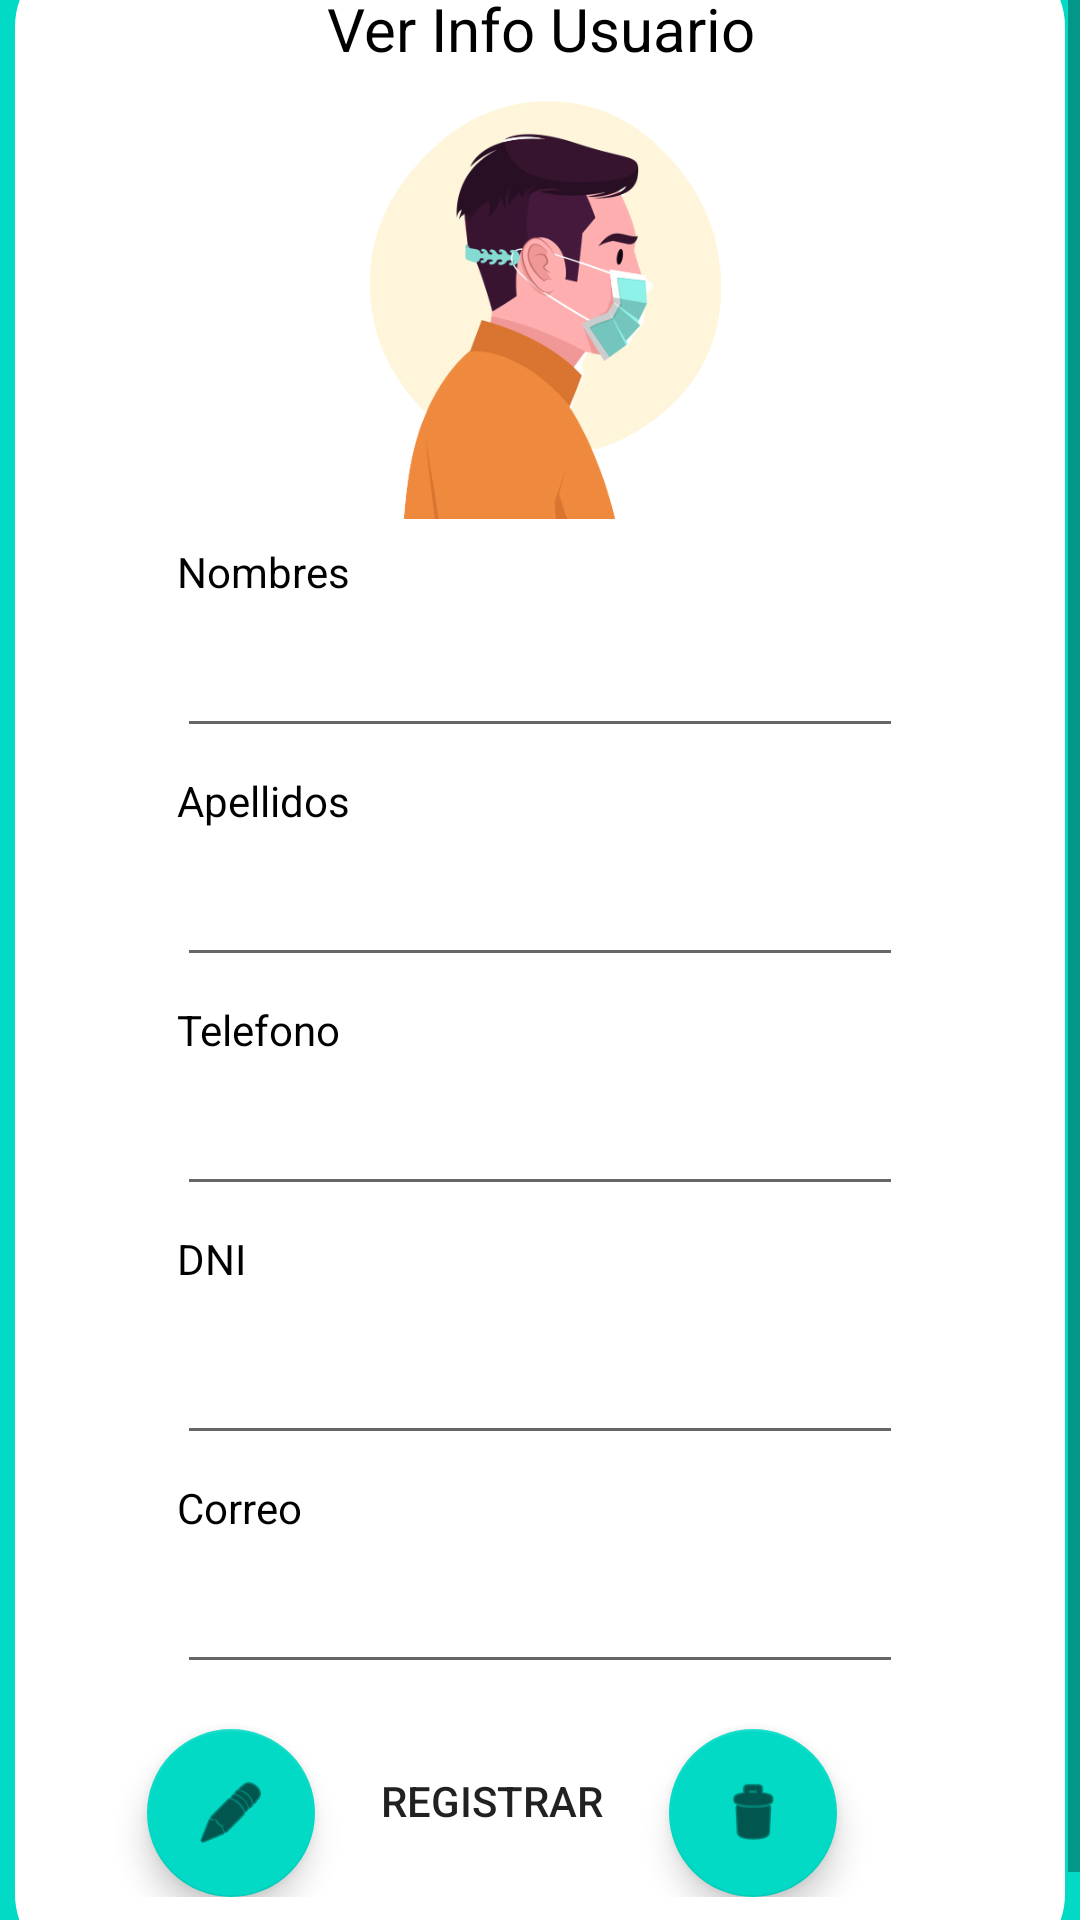

Icons on this 1080×1920 Android screen, each with its box as (x1, y1, x2, y2):
delete: (669, 1729, 837, 1897)
edit: (147, 1729, 315, 1897)
